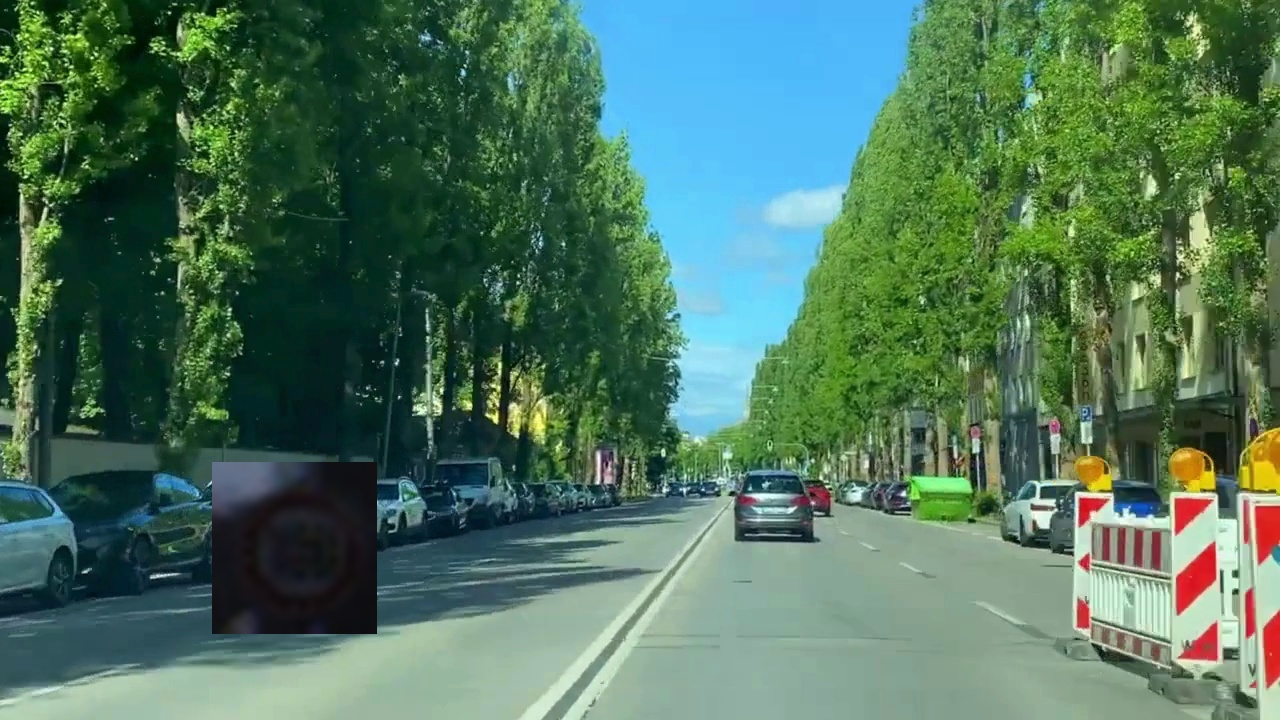Speed 100: (212, 462, 377, 634)
